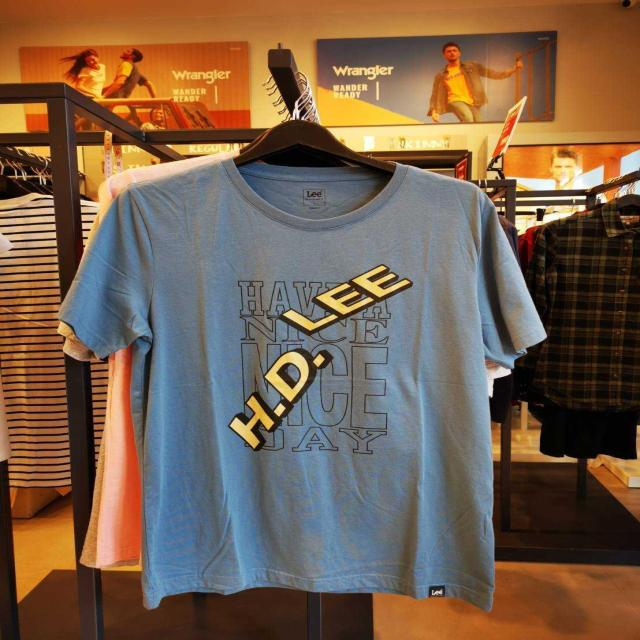Tshirt: (56, 160, 550, 594)
